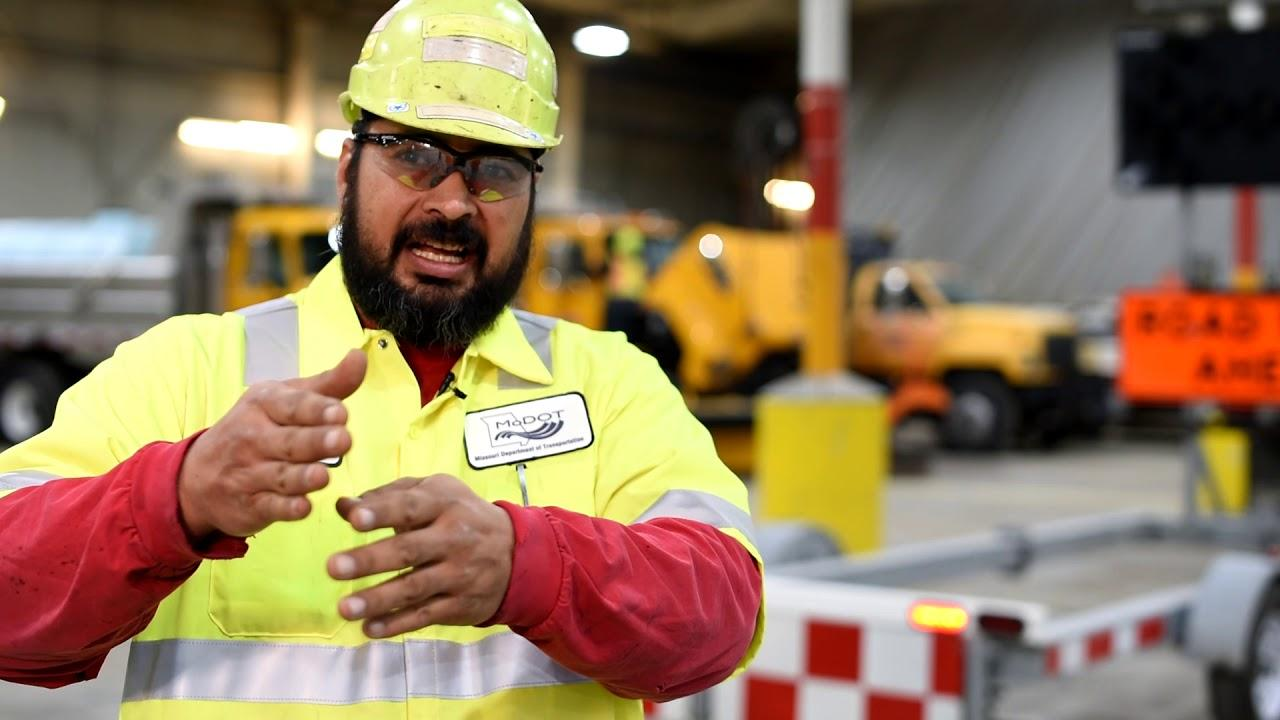helmet: (344, 1, 560, 152)
